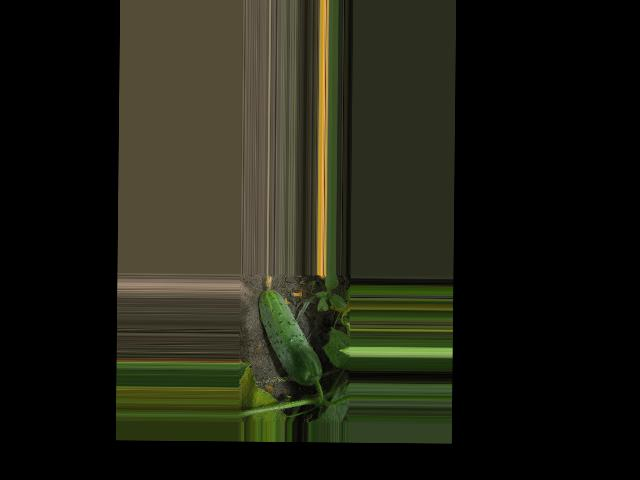cucumber: (257, 274, 323, 385)
